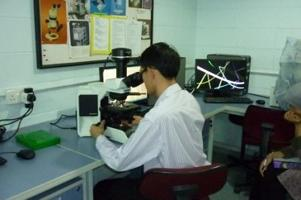person: (91, 43, 213, 200)
